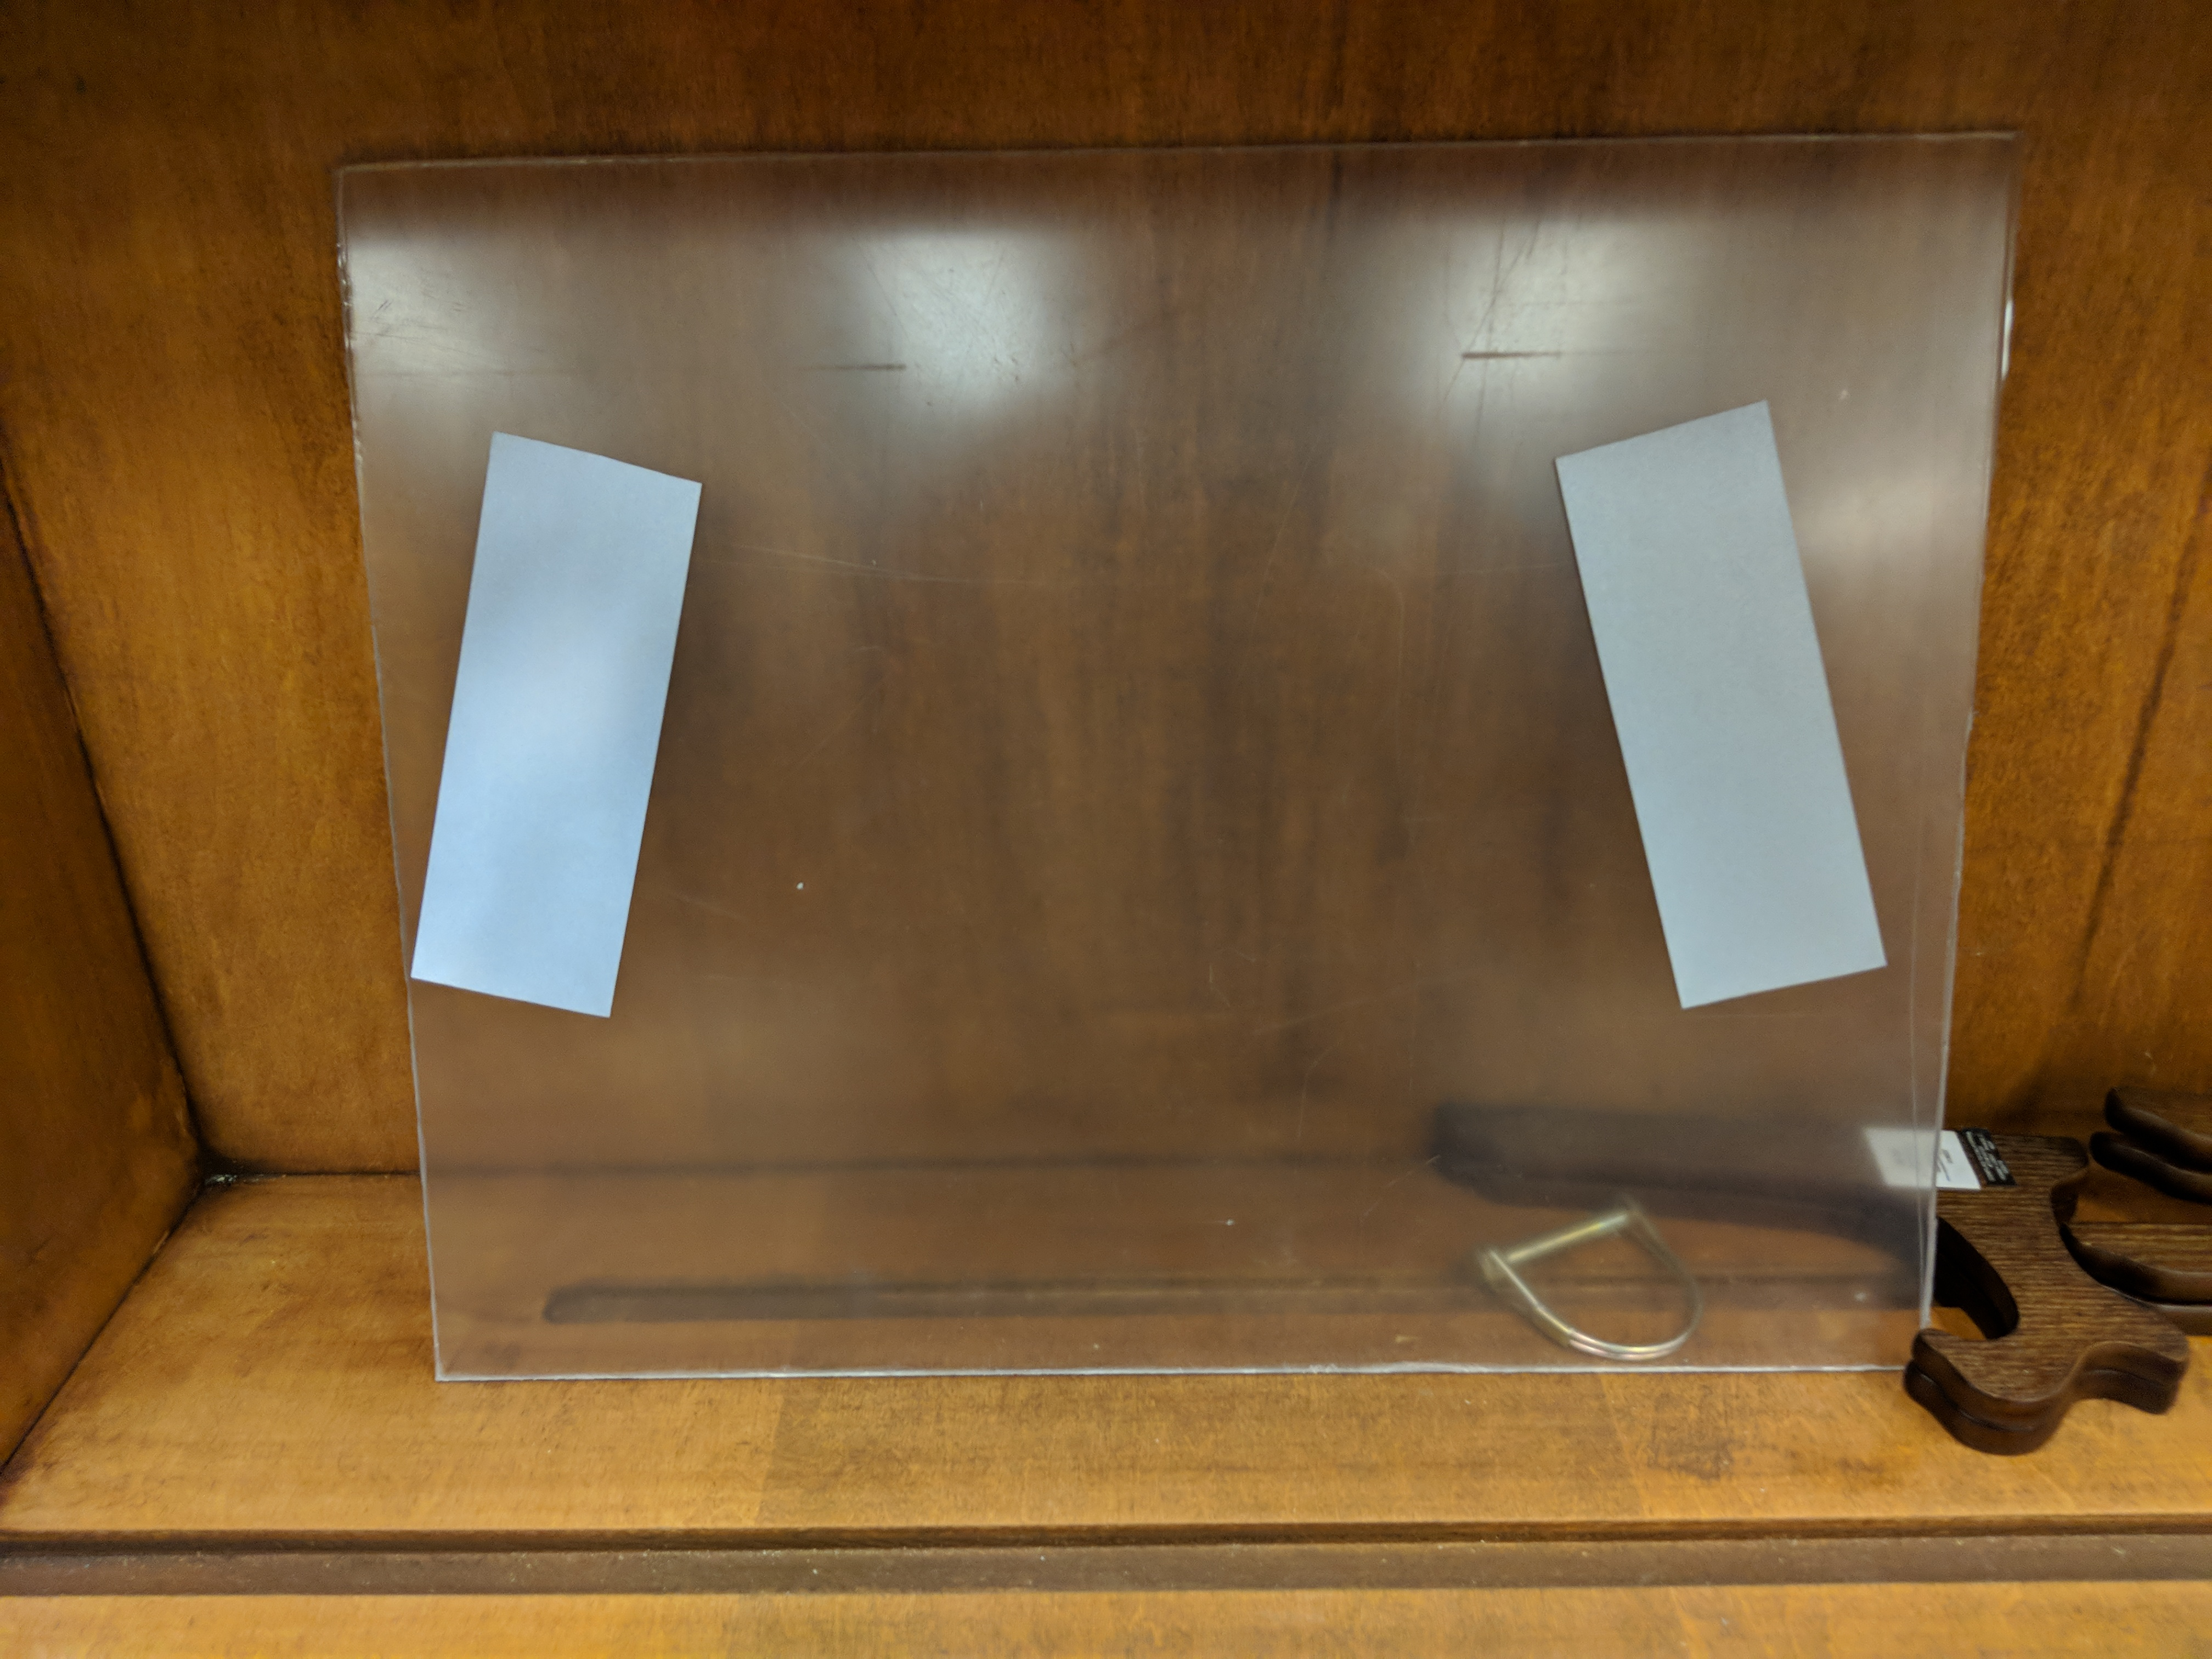vision_target: (395, 392, 1912, 1035)
